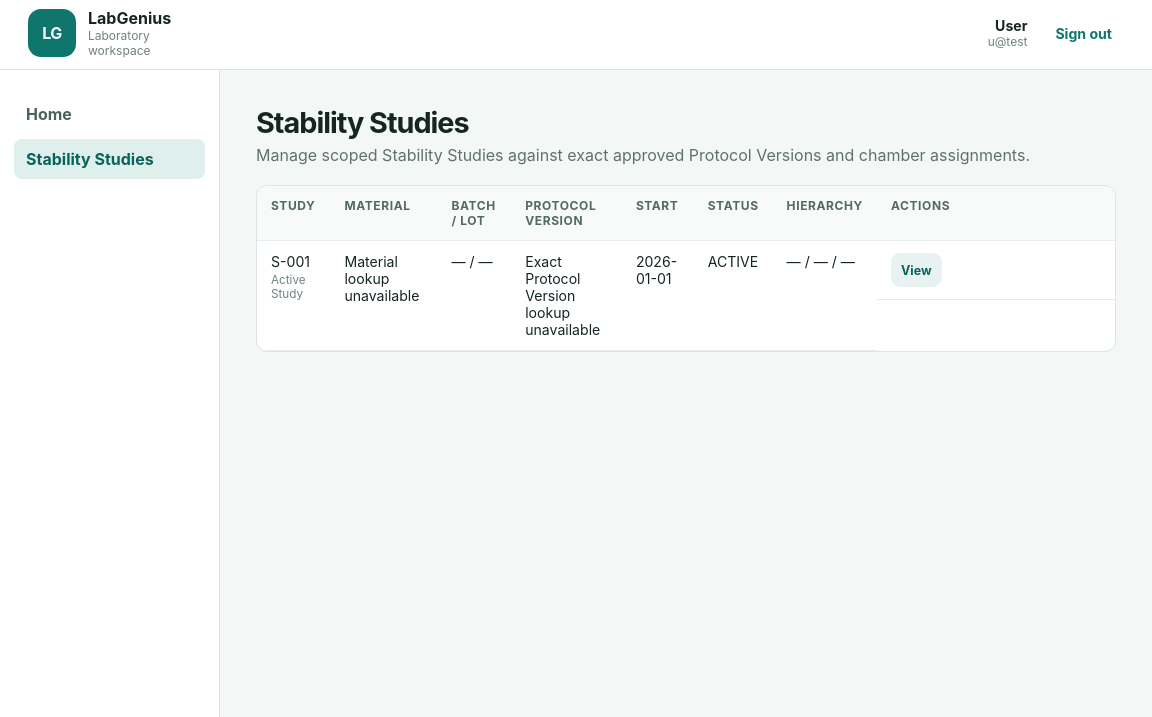
Test case: gates loading and renders the quiet unavailable message
Click the button "View" at {"x": 916, "y": 270}, box [891,253,942,287]
(page scrolled)
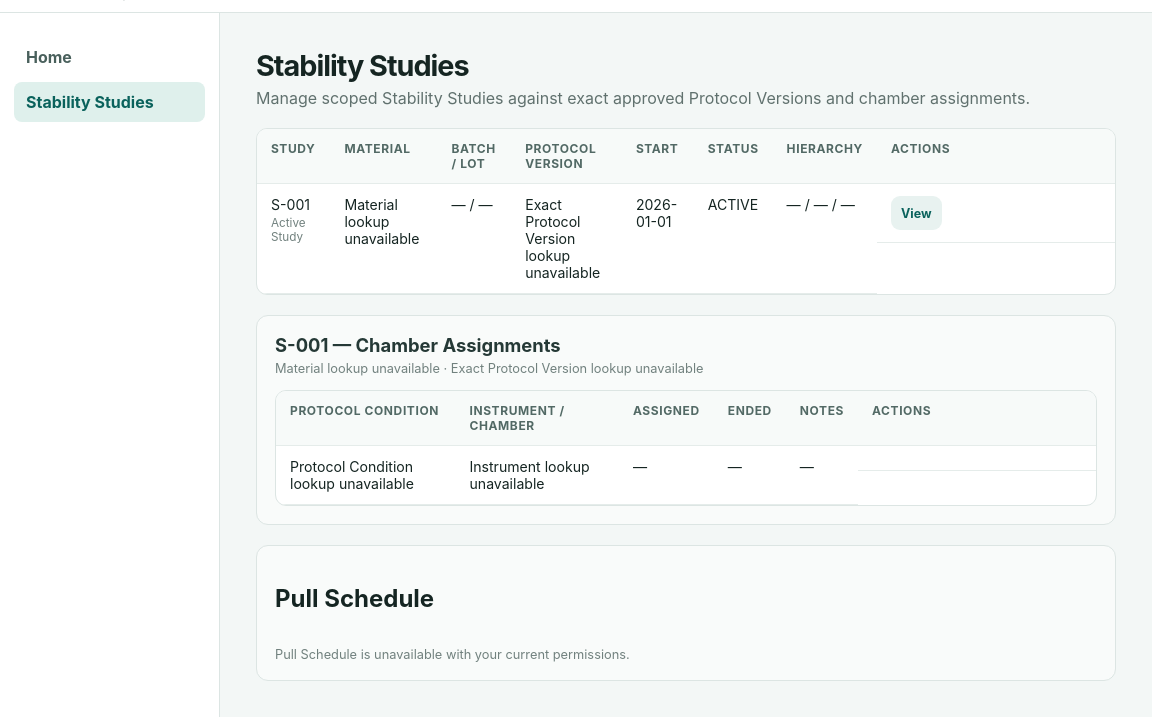
Check: the heading "Pull Schedule" is shown, box [275,584,434,613]
Check: the text "Pull Schedule is unavailable with your current permissions." is shown, box [275,647,630,662]
